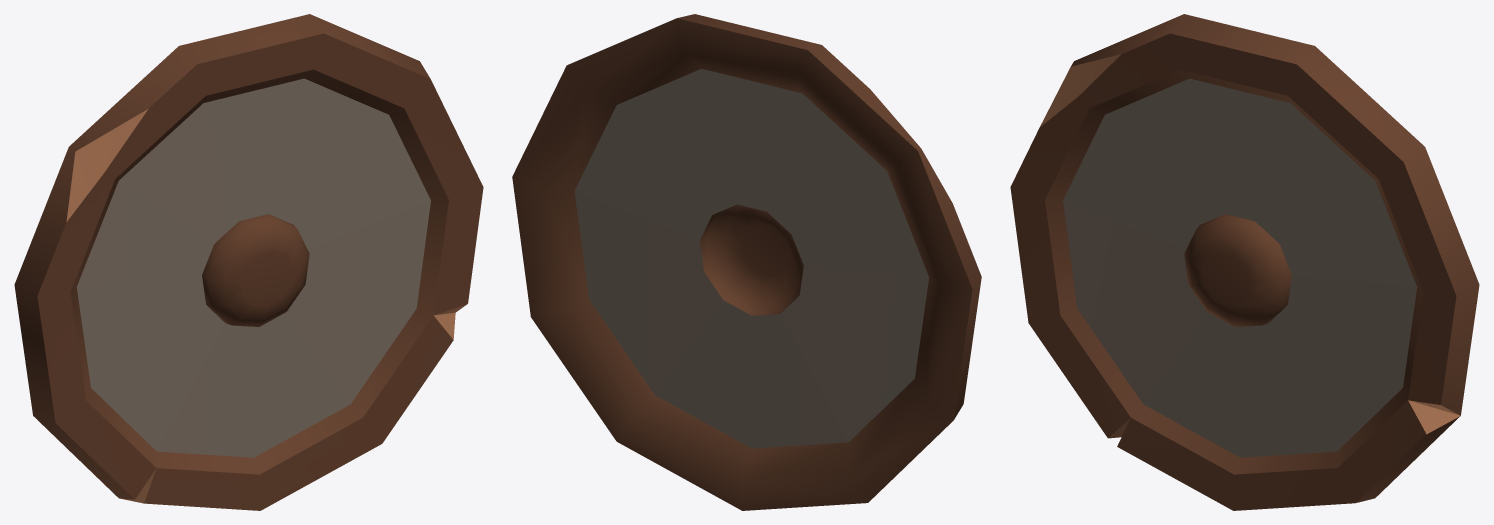
The model's file is kalkan 3.fbx.
3 views of the same model, side by side, from view 1: azimuth 30°, elevation 25°; view 2: azimuth 150°, elevation 25°; view 3: azimuth 330°, elevation 25° (orthographic).
Parts seen in each view (by area): view 1: kalkan 3; view 2: kalkan 3; view 3: kalkan 3.
Boxes of the visible parts, x1,y1,x2,y2 form: kalkan 3: (14, 14, 483, 510); kalkan 3: (512, 14, 981, 510); kalkan 3: (1010, 14, 1479, 510).
Bounding box in the file's own units: 49.19 × 48.69 × 4.32.
